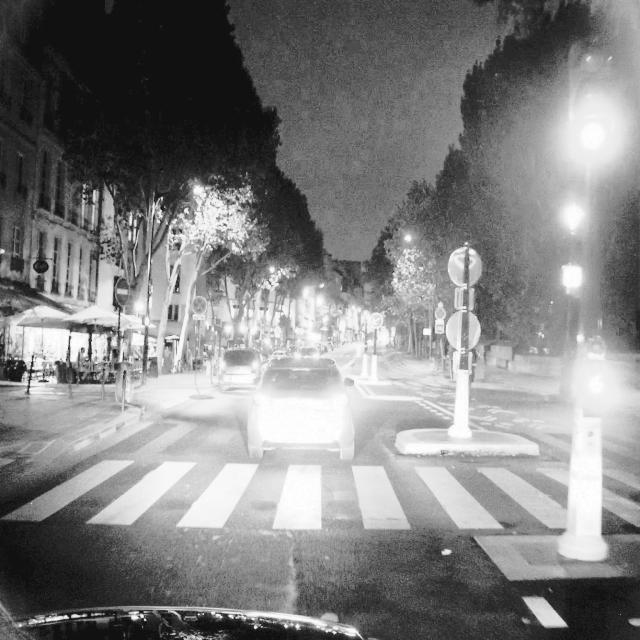Car: (242, 354, 358, 462)
Light: (580, 49, 607, 151), (584, 338, 611, 413)
Sign: (448, 247, 482, 377)
